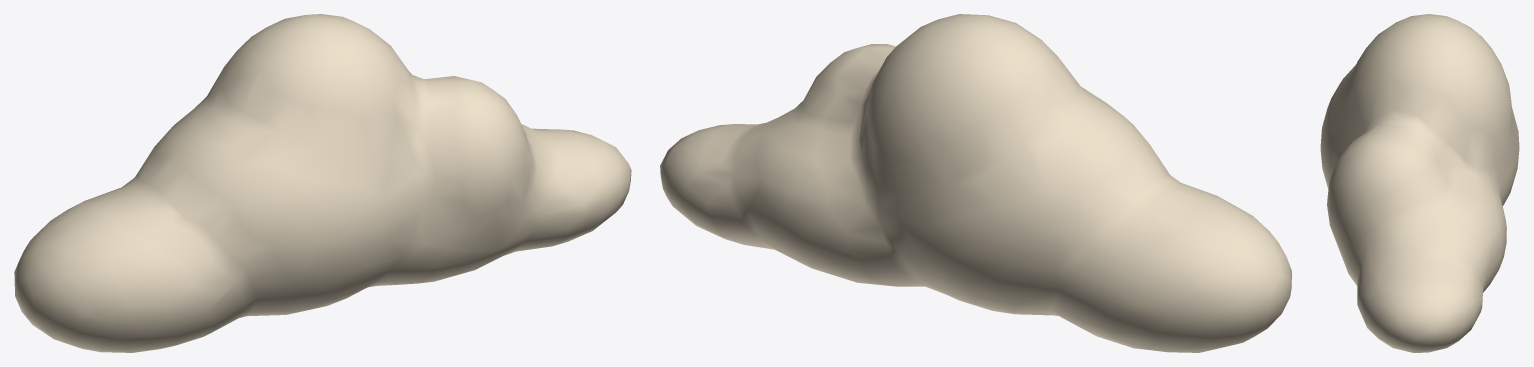
Rendered from LM_SKY_Cumulus.glb.
3 renders of one model, left to right at view 1: azimuth 30°, elevation 25°; view 2: azimuth 150°, elevation 25°; view 3: azimuth 270°, elevation 25°, orthographic. The views are drawn at different scales.
Parts seen in each view (by area): view 1: LM_SKY_Cumulus; view 2: LM_SKY_Cumulus; view 3: LM_SKY_Cumulus.
Boxes of the visible parts, bbox=[...] form: LM_SKY_Cumulus: bbox=[14, 14, 631, 352]; LM_SKY_Cumulus: bbox=[660, 14, 1291, 352]; LM_SKY_Cumulus: bbox=[1320, 14, 1519, 352].
Bounding box in the file's own units: 9.98 × 4.31 × 3.35.
